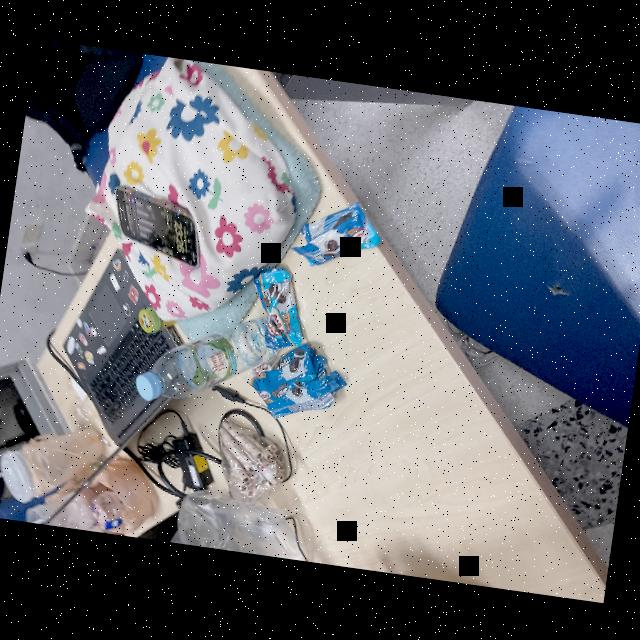plastic_bag: (170, 478, 314, 560), (21, 414, 112, 500), (89, 449, 171, 539)
plastic_bottle: (130, 300, 273, 416)
plastic_bottle_cap: (125, 362, 182, 415)
plastic_box: (86, 482, 132, 534)
plastic_cup: (23, 469, 114, 532)
plastic_cup_lid: (0, 444, 43, 510)
snack_bag: (208, 414, 296, 506), (290, 192, 386, 276), (242, 359, 357, 427), (244, 262, 314, 354), (245, 339, 332, 409)
straw: (0, 468, 7, 491)
